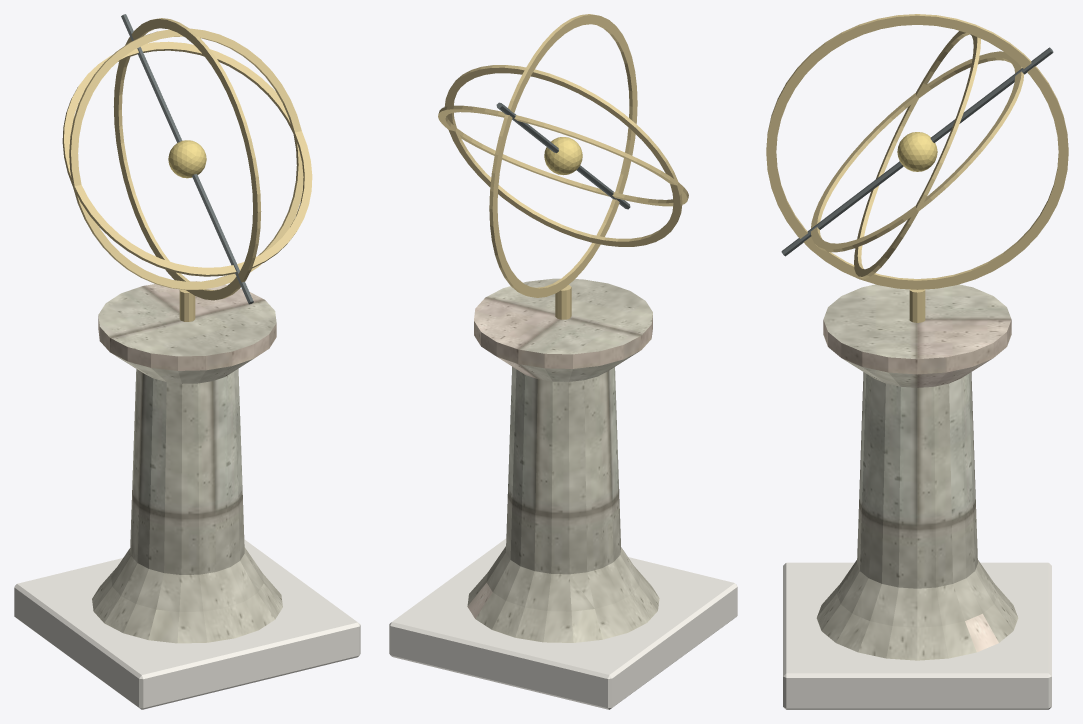
The model's file is armillary.glb.
3 views of the same model, side by side, from view 1: azimuth 30°, elevation 25°; view 2: azimuth 150°, elevation 25°; view 3: azimuth 270°, elevation 25° (orthographic). The views are drawn at different scales.
Visible parts, largest first — view 1: armillary_stone, armillary_trim, armillary_brass, armillary_iron, armillary_gold; view 2: armillary_stone, armillary_trim, armillary_brass, armillary_gold, armillary_iron; view 3: armillary_stone, armillary_trim, armillary_brass, armillary_iron, armillary_gold.
Boxes of the visible parts, x1=… form: armillary_stone: x1=92, y1=281, x2=282, y2=643; armillary_trim: x1=14, y1=539, x2=360, y2=709; armillary_brass: x1=62, y1=18, x2=312, y2=321; armillary_iron: x1=121, y1=14, x2=253, y2=304; armillary_gold: x1=168, y1=140, x2=206, y2=178; armillary_stone: x1=467, y1=278, x2=659, y2=642; armillary_trim: x1=389, y1=538, x2=737, y2=709; armillary_brass: x1=438, y1=14, x2=688, y2=319; armillary_gold: x1=544, y1=137, x2=582, y2=175; armillary_iron: x1=496, y1=102, x2=630, y2=209; armillary_stone: x1=816, y1=284, x2=1018, y2=660; armillary_trim: x1=783, y1=562, x2=1051, y2=709; armillary_brass: x1=766, y1=14, x2=1068, y2=322; armillary_iron: x1=781, y1=47, x2=1053, y2=256; armillary_gold: x1=897, y1=132, x2=937, y2=171.
Size of the model in its own units: 0.82 by 2.1 by 0.9.
Materials: 5 (1 with a texture image).
